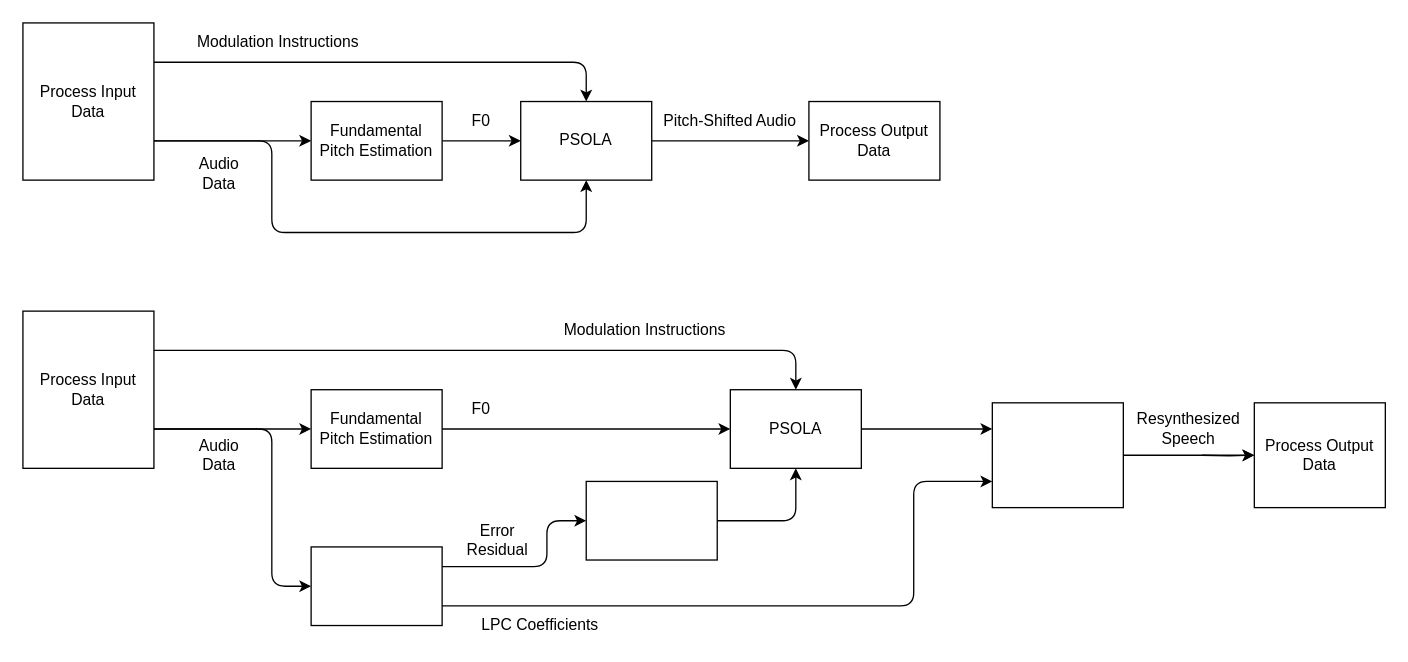
Image size: 1408x662. Some labels were removed from this diagram. Here are the shapes that lost their labels. From the top down, the centre of each, then its label:
At (1057,455): "LPC Synthesis".
At (651,520): "Filter".
At (376,586): "LPC Analysis".
